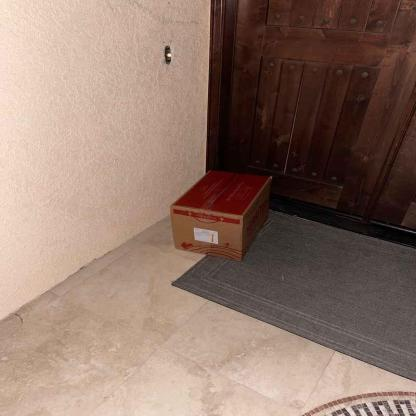label: (194, 227, 219, 244)
package: (171, 169, 271, 262)
